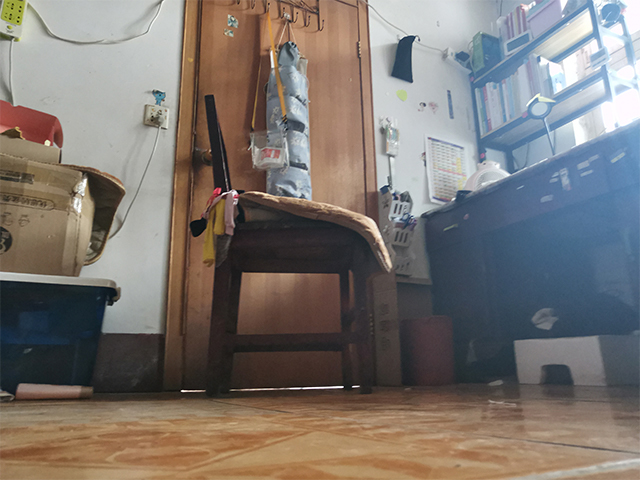stool: (202, 92, 396, 397)
table: (419, 117, 640, 387)
trashcan: (399, 314, 457, 388)
